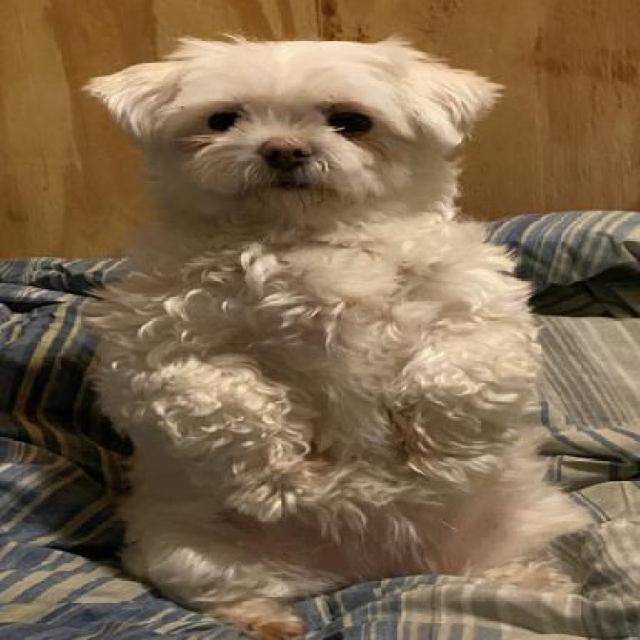Dog: (77, 29, 594, 638)
